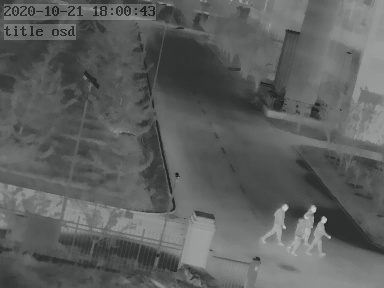person: (261, 202, 288, 248), (294, 202, 316, 251), (310, 216, 333, 260)
